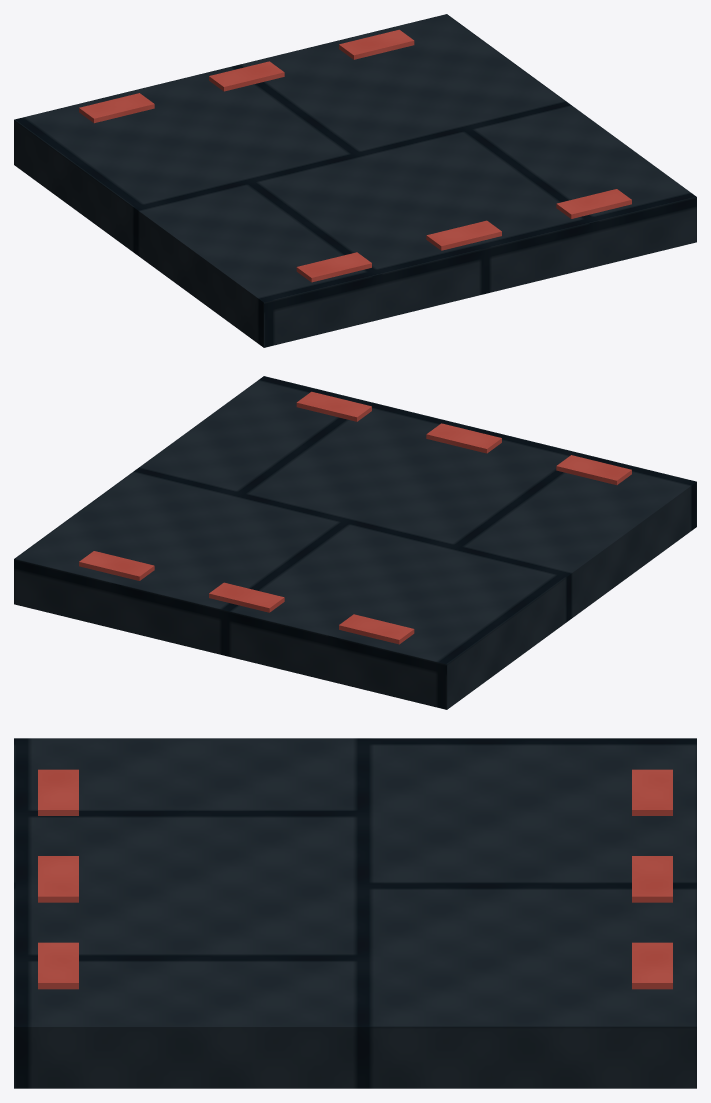
Rendered from spike_base.obj.
3 views of the same model, one above another, from view 1: azimuth 30°, elevation 25°; view 2: azimuth 150°, elevation 25°; view 3: azimuth 270°, elevation 25° (orthographic). The views are drawn at different scales.
Visible parts, largest first — view 1: spike_base; view 2: spike_base; view 3: spike_base.
Part boxes in pixels (<box>): spike_base: <box>14,14,696,347</box>; spike_base: <box>14,376,696,709</box>; spike_base: <box>14,738,696,1088</box>.
Size of the model in its own units: 2 by 0.22 by 2.
2 materials, 2 textured.
